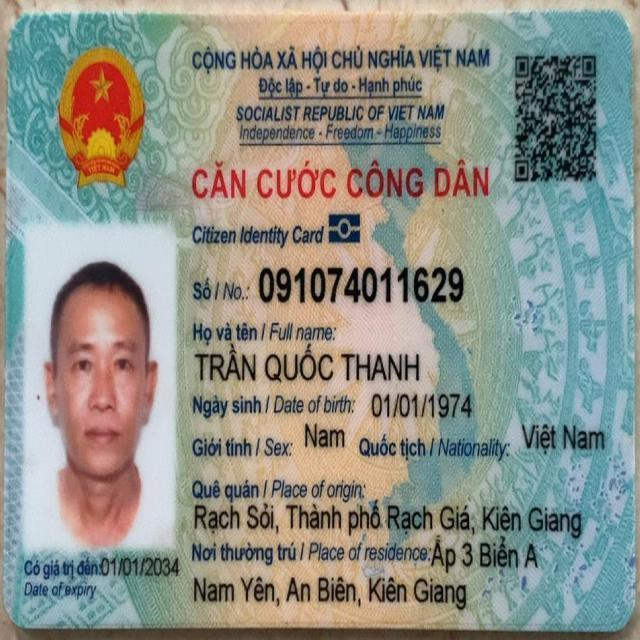current_place: (191, 571, 470, 617), (429, 531, 547, 571)
dob: (372, 392, 474, 423)
expire_date: (100, 553, 183, 586)
gender: (301, 419, 347, 455)
id: (257, 261, 466, 310)
name: (196, 340, 423, 389)
nationality: (519, 417, 607, 459)
origin_place: (192, 500, 587, 539)
